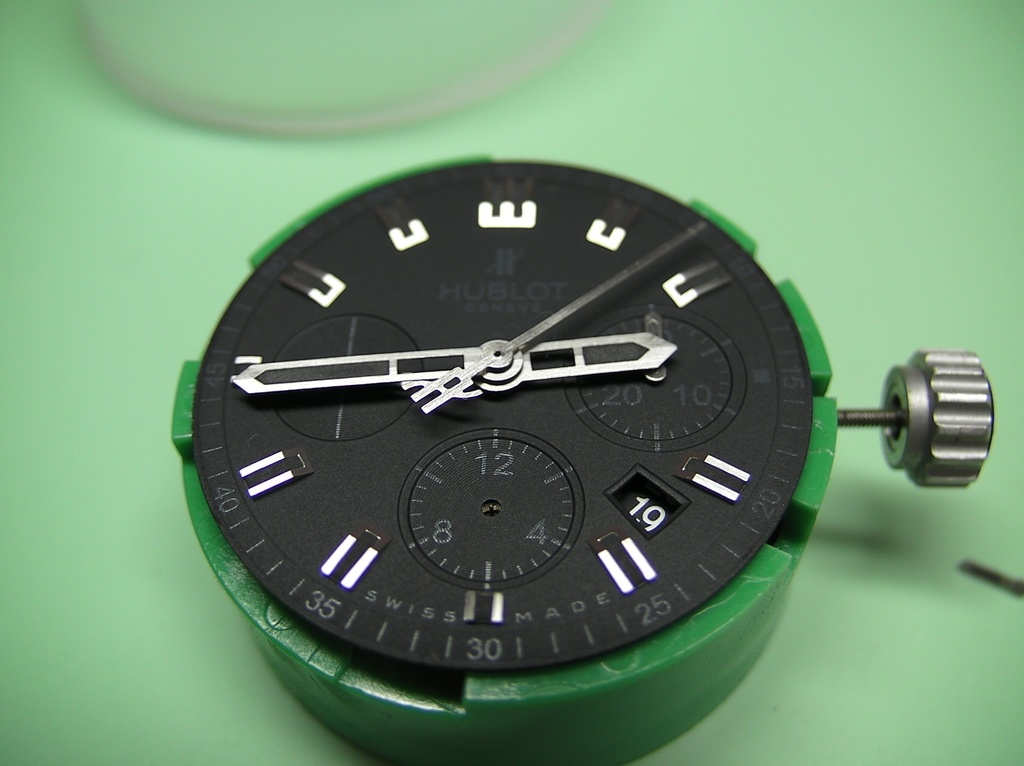watch: (170, 152, 993, 765)
